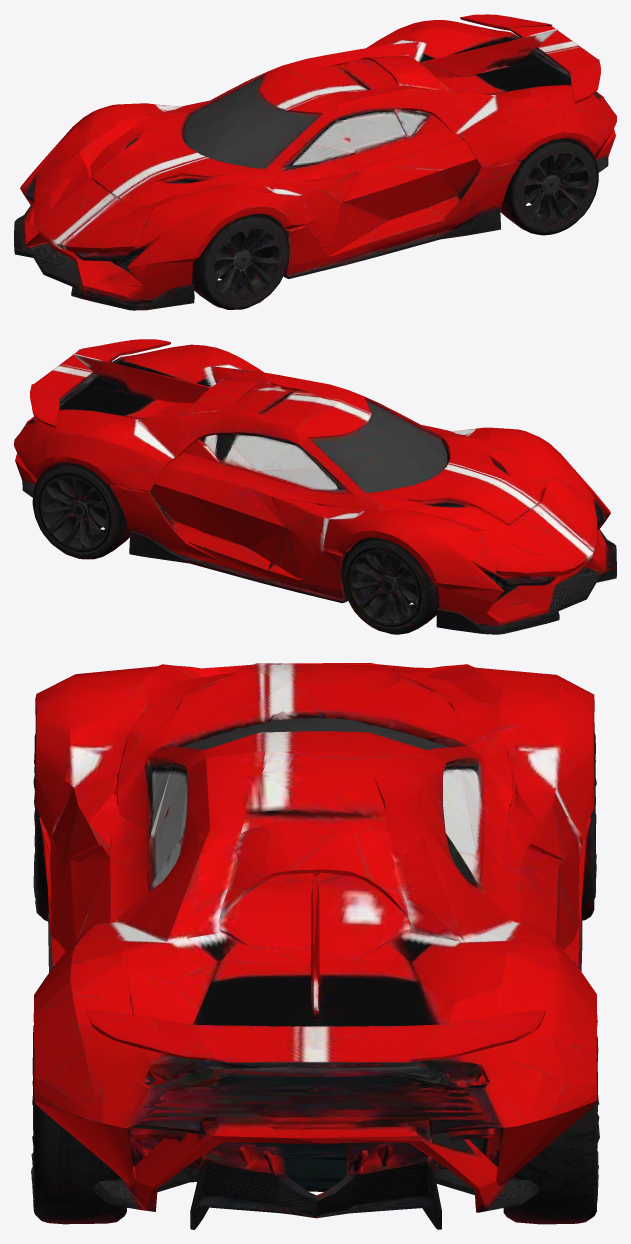
The model's file is pil-bil.glb.
The picture shows the model from 3 angles, top to bottom: view 1: azimuth 30°, elevation 25°; view 2: azimuth 150°, elevation 25°; view 3: azimuth 270°, elevation 25°; orthographic projection. The views are drawn at different scales.
Visible parts, largest first — view 1: Mesh_0; view 2: Mesh_0; view 3: Mesh_0.
Part boxes in pixels (bbox=[...]): Mesh_0: bbox=[14, 14, 616, 310]; Mesh_0: bbox=[14, 339, 616, 634]; Mesh_0: bbox=[31, 663, 599, 1229].
Size of the model in its own units: 1.9 by 0.4856 by 0.8597.
Materials: 1 (1 with a texture image).
